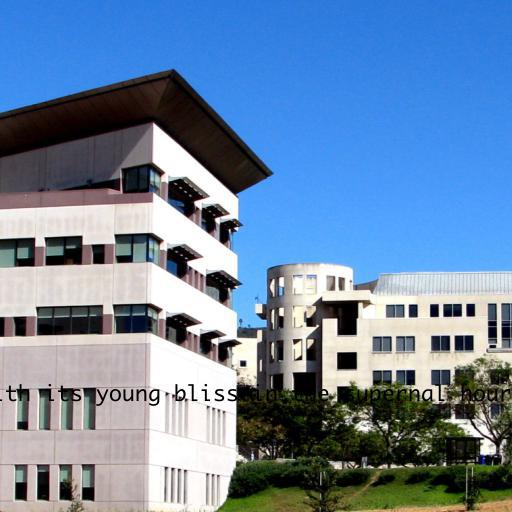Monaco: (0, 383, 512, 406)
